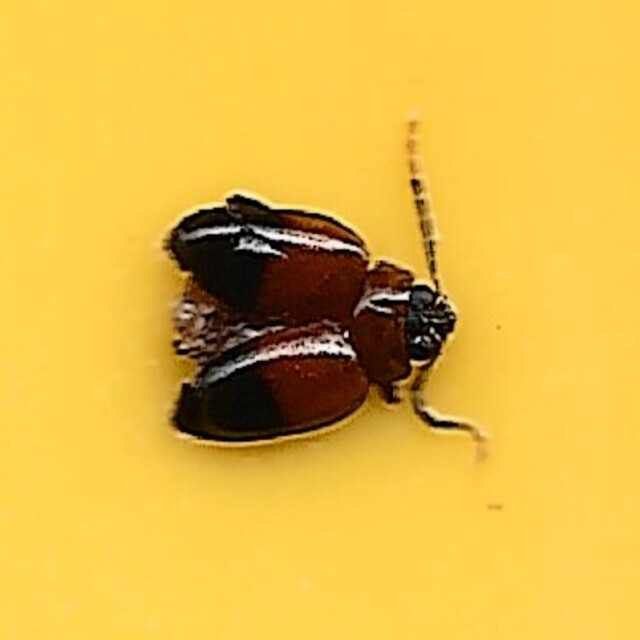Coleoptera: (159, 189, 481, 451)
